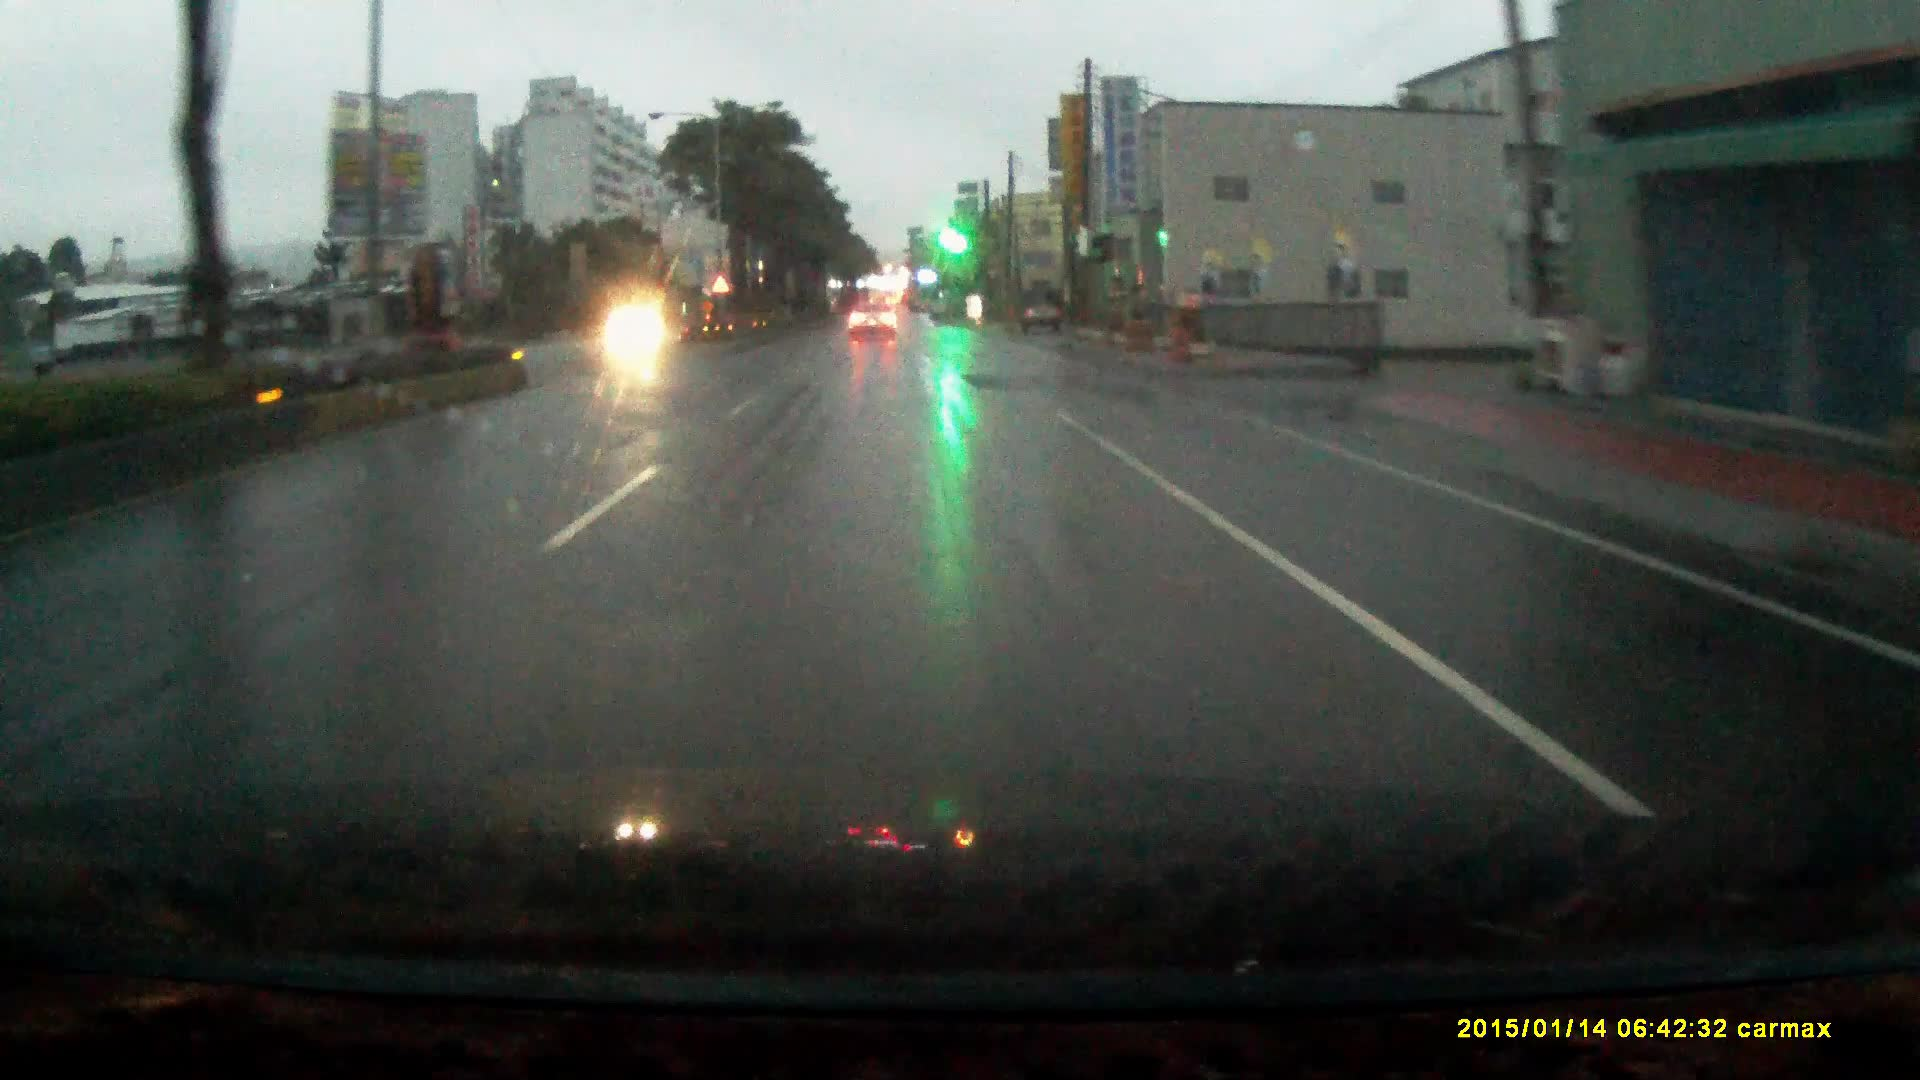vehicle: (847, 295, 898, 334), (1022, 286, 1059, 332)
